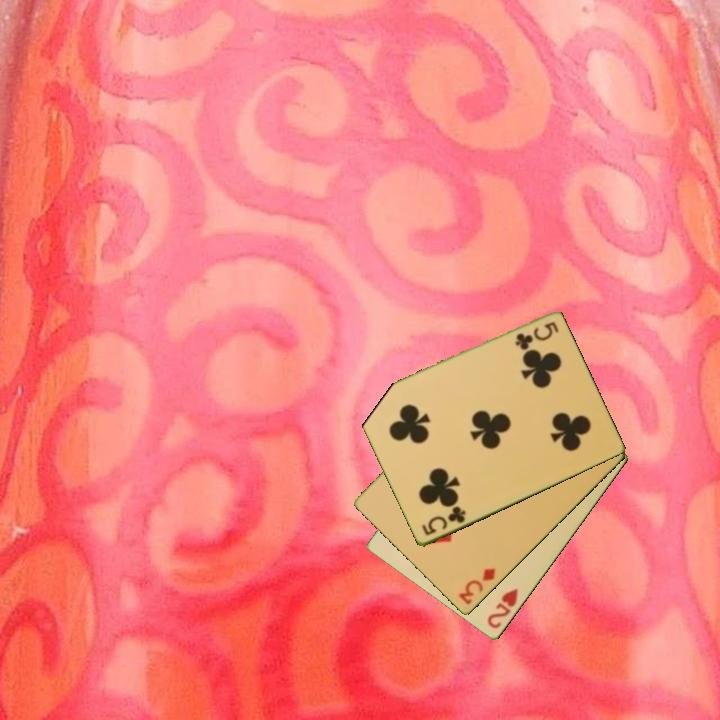2h: (484, 585, 521, 632)
3d: (455, 565, 499, 608)
5c: (418, 503, 469, 539), (511, 318, 561, 351)
